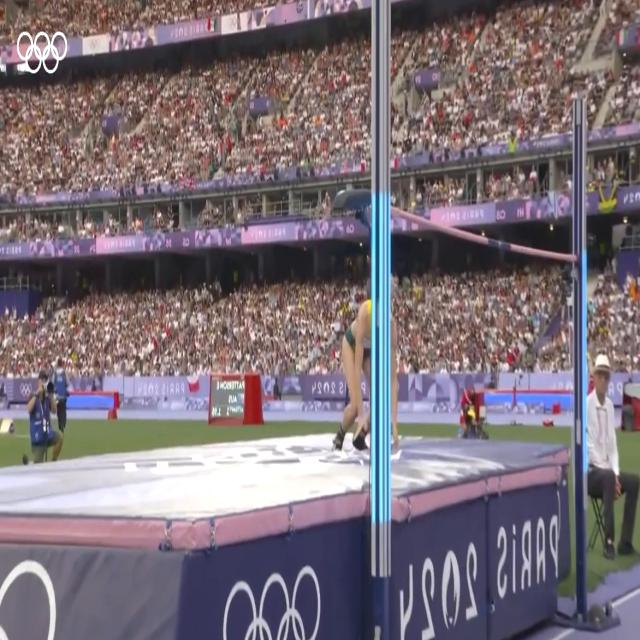land: (328, 277, 406, 456)
